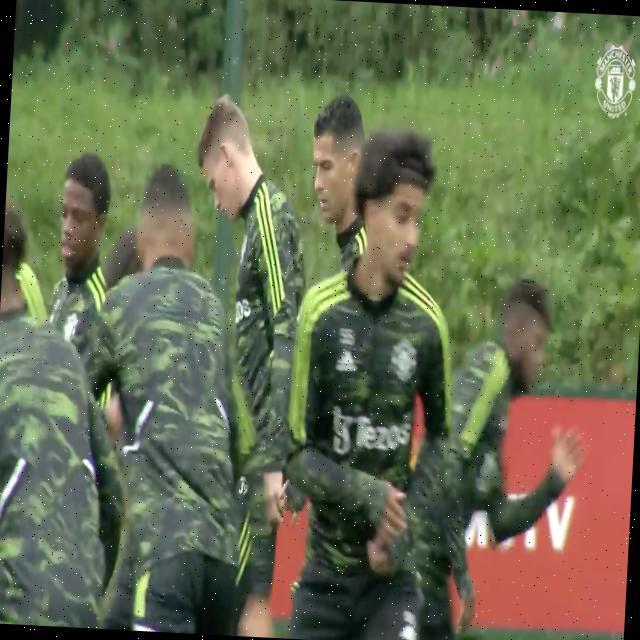Adidas: (337, 349, 357, 373), (399, 624, 418, 640)
